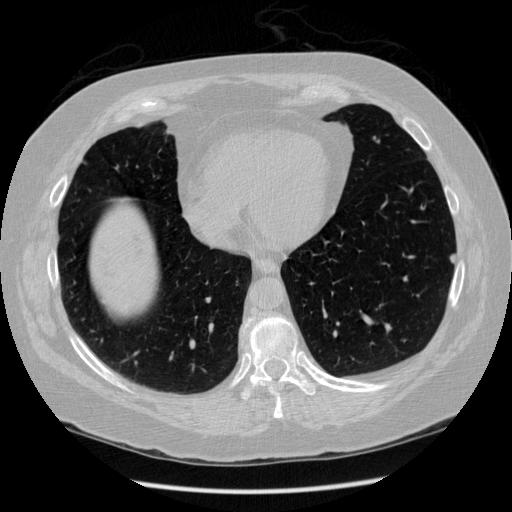nodule: (446, 252, 459, 265)
